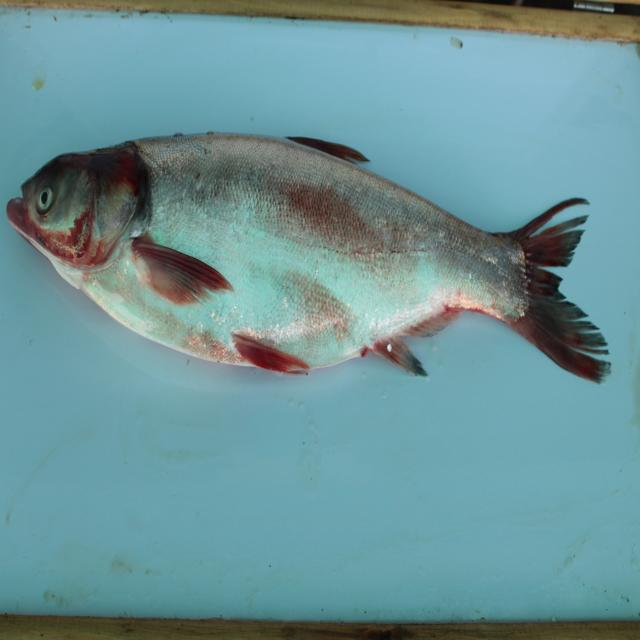SilverCarp: (12, 125, 622, 411)
